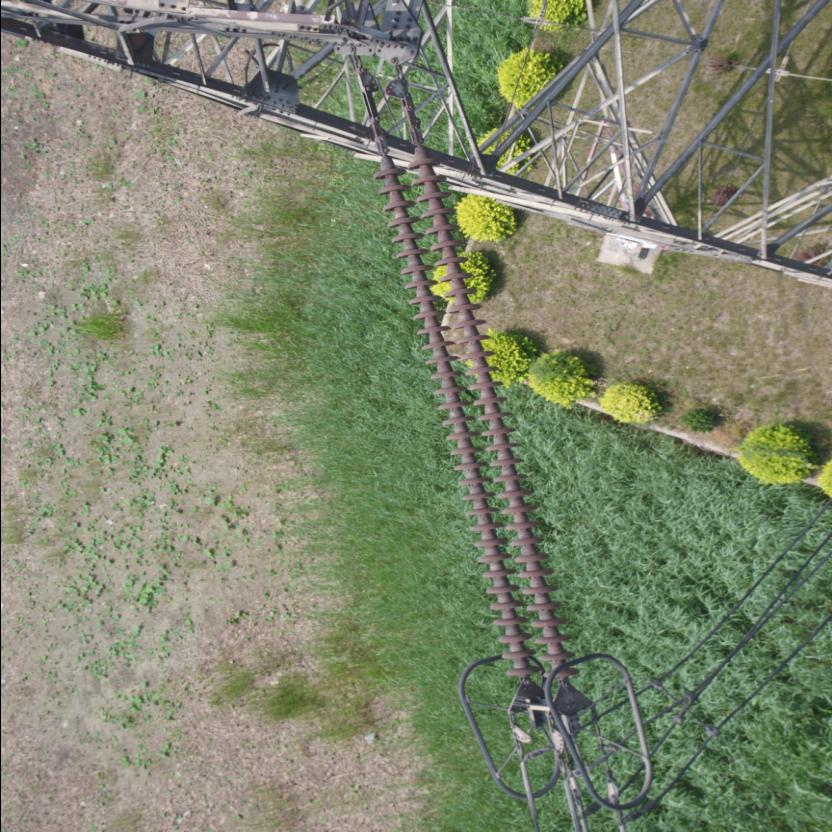insulator: (362, 110, 585, 698)
